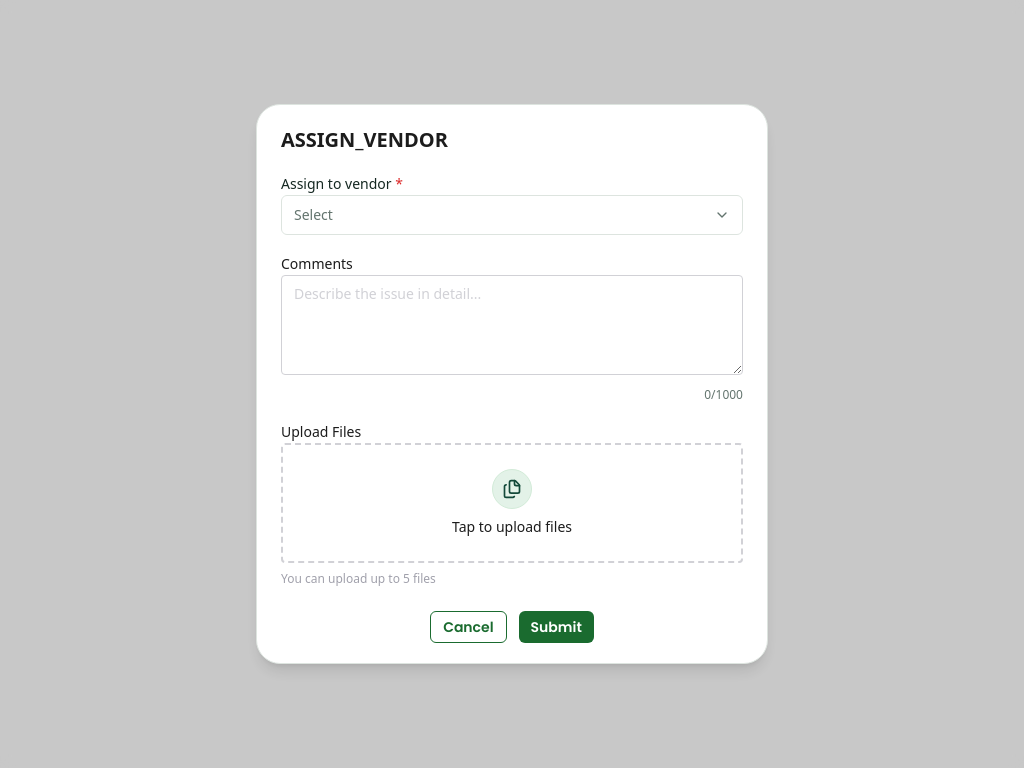
Scenario: ComplaintActionDialog › vendor assignee (ASSIGN_VENDOR) › fetches vendor options for the ticket's boundary, excluding the given vendor uuid
The width and height of the screenshot is (1024, 768).
Click the button "Select" at (313, 214), box [281,195,743,235]
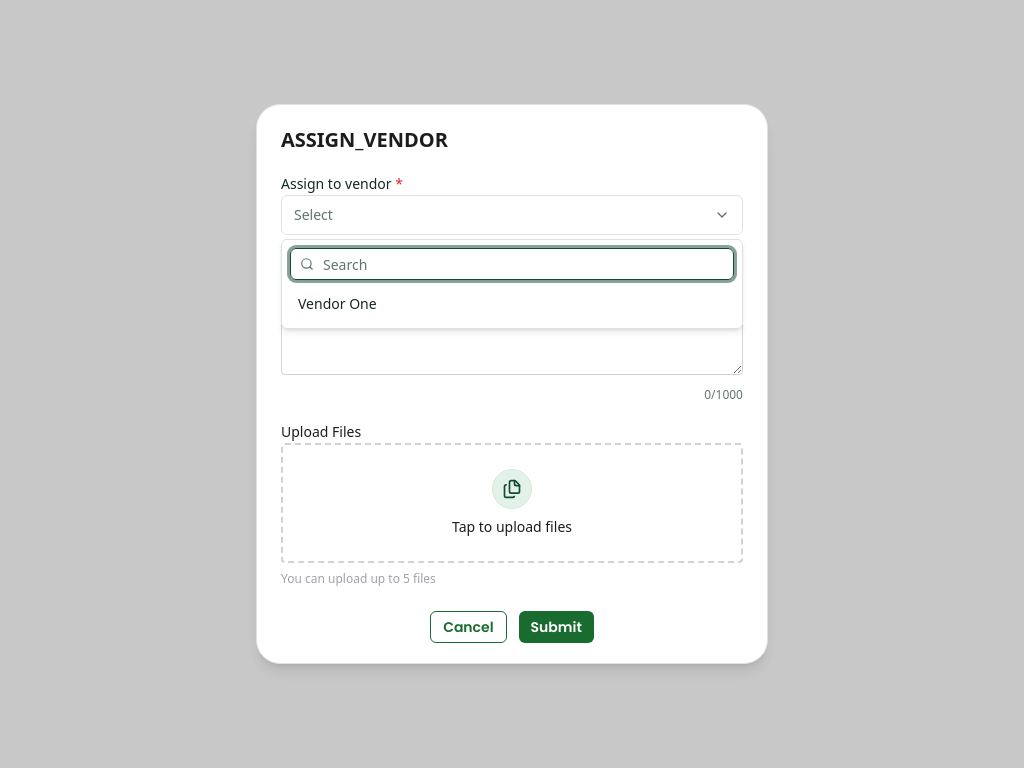
Now the button "Vendor One" is shown, box [290,288,726,320]
